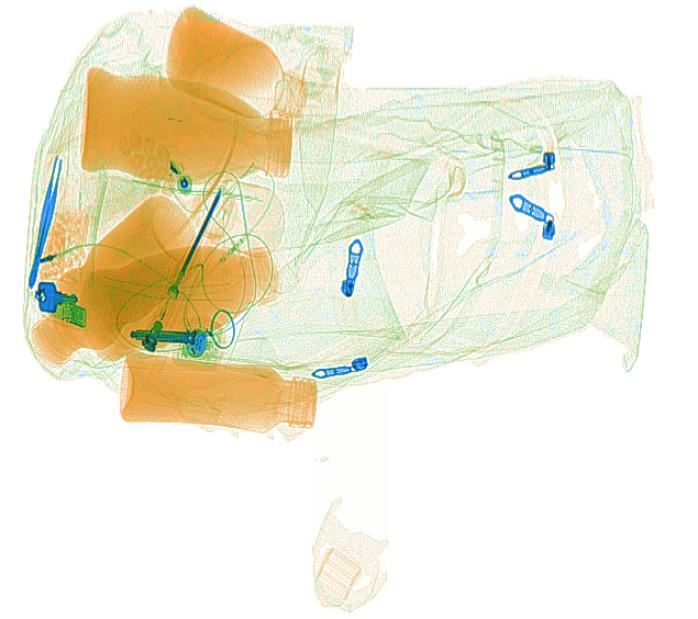USBFlashDisk: (36, 289, 87, 329)
